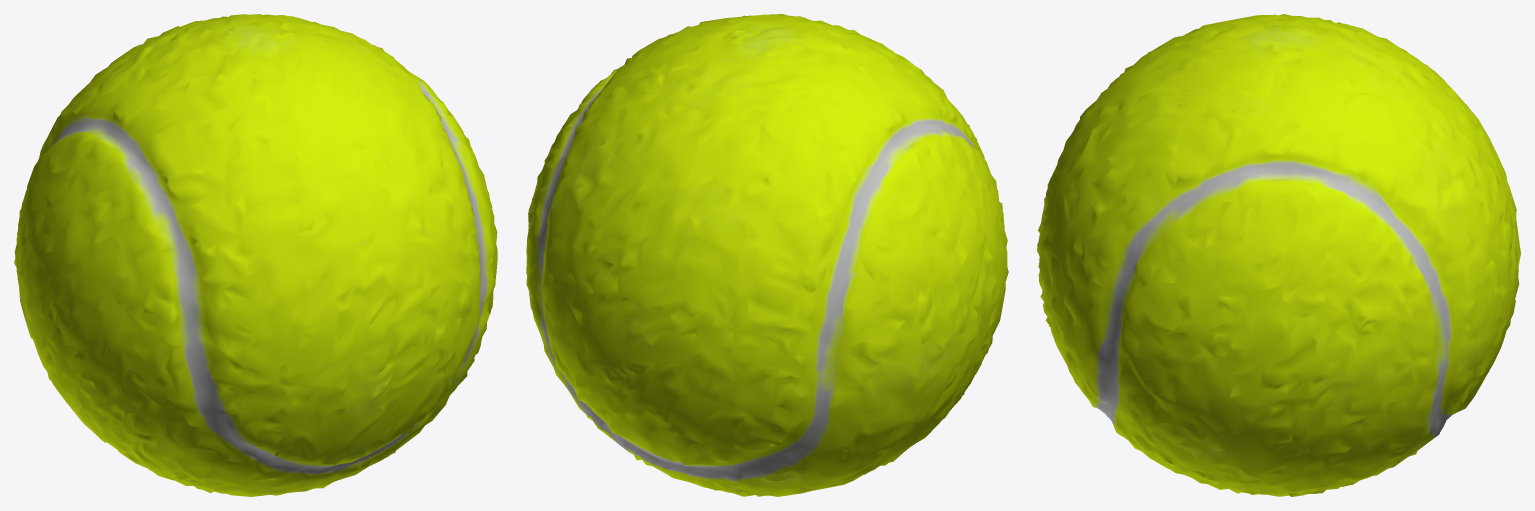
The picture shows the model from 3 angles, left to right: view 1: azimuth 30°, elevation 25°; view 2: azimuth 150°, elevation 25°; view 3: azimuth 270°, elevation 25°; orthographic projection.
Parts seen in each view (by area): view 1: PM3D_Sphere3D_2; view 2: PM3D_Sphere3D_2; view 3: PM3D_Sphere3D_2.
Part boxes in pixels (box(x1,y1,x2,y2)): PM3D_Sphere3D_2: box(14, 14, 497, 496); PM3D_Sphere3D_2: box(526, 14, 1008, 496); PM3D_Sphere3D_2: box(1037, 14, 1520, 496).
Size of the model in its own units: 2 by 1.99 by 2.
1 material, 1 textured.
